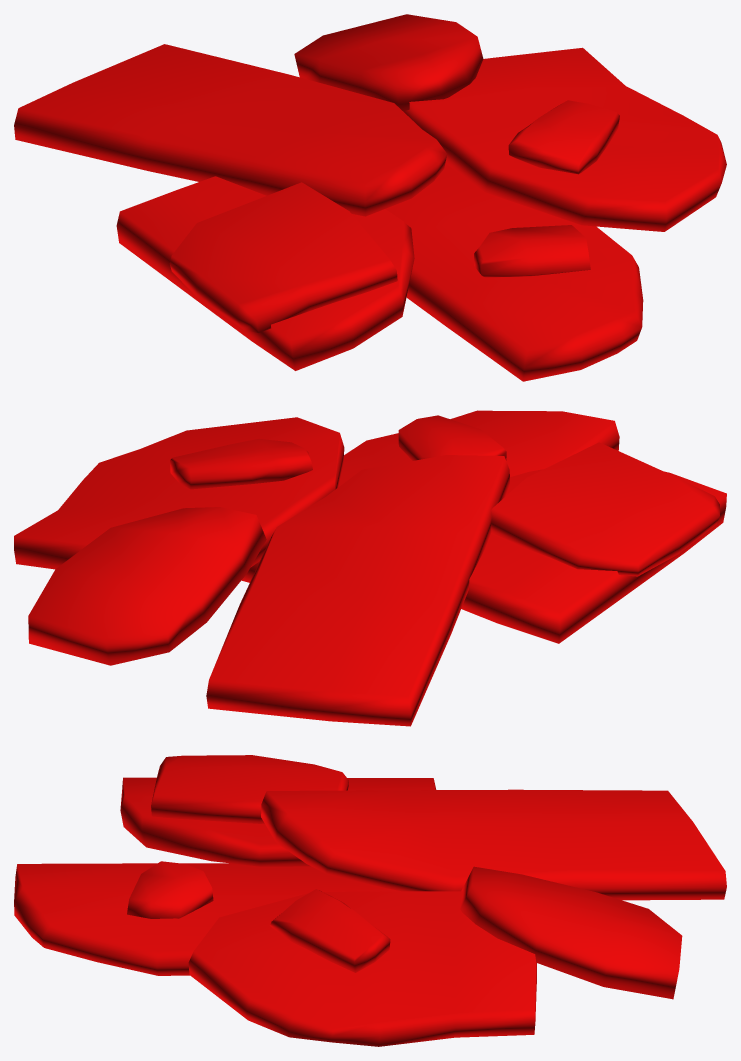
Rendered from Rubble_Debris_06_Lod0.fbx.
3 renders of one model, top to bottom at view 1: azimuth 30°, elevation 25°; view 2: azimuth 150°, elevation 25°; view 3: azimuth 270°, elevation 25°, orthographic. The views are drawn at different scales.
Visible parts, largest first — view 1: Rubble_Debris_06_Lod0; view 2: Rubble_Debris_06_Lod0; view 3: Rubble_Debris_06_Lod0.
Part boxes in pixels (x1=…): Rubble_Debris_06_Lod0: x1=14, y1=14, x2=726, y2=381; Rubble_Debris_06_Lod0: x1=14, y1=410, x2=726, y2=726; Rubble_Debris_06_Lod0: x1=14, y1=755, x2=726, y2=1046.
Bounding box in the file's own units: 408 × 71.51 × 493.
